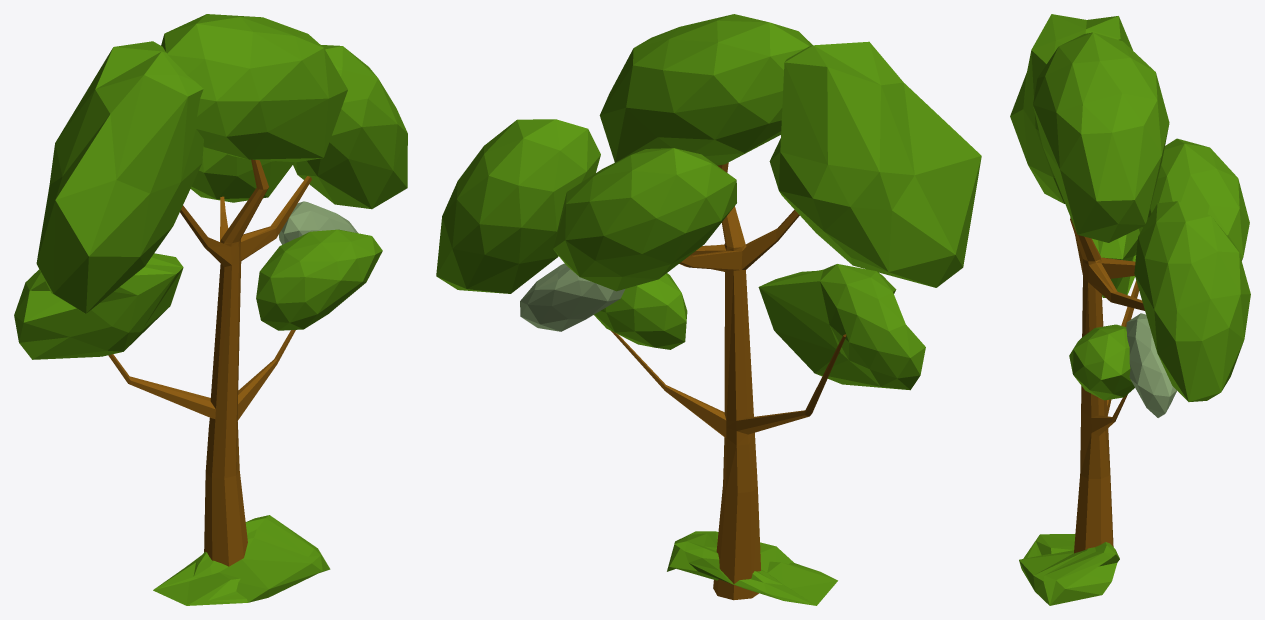
File: arvore_mãe.glb
The picture shows the model from 3 angles, left to right: view 1: azimuth 30°, elevation 25°; view 2: azimuth 150°, elevation 25°; view 3: azimuth 270°, elevation 25°; orthographic projection. The views are drawn at different scales.
Parts seen in each view (by area): view 1: skp7EEA1; view 2: skp7EEA1; view 3: skp7EEA1.
Boxes of the visible parts, x1=… form: skp7EEA1: x1=14, y1=14, x2=407, y2=605; skp7EEA1: x1=436, y1=14, x2=981, y2=605; skp7EEA1: x1=1010, y1=14, x2=1250, y2=605.
Bounding box in the file's own units: 244 × 298 × 124.
